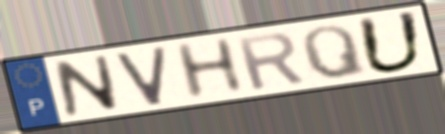H: (170, 35, 248, 103)
N: (51, 53, 122, 119)
Q: (298, 23, 371, 81)
R: (232, 30, 309, 93)
U: (354, 9, 427, 76)
V: (111, 44, 169, 108)
